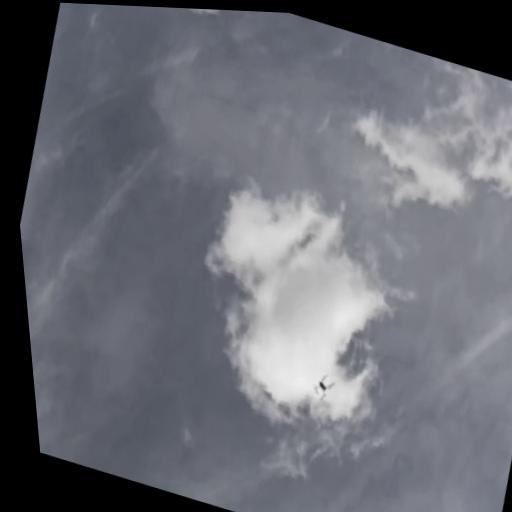drones: (304, 364, 344, 412)
